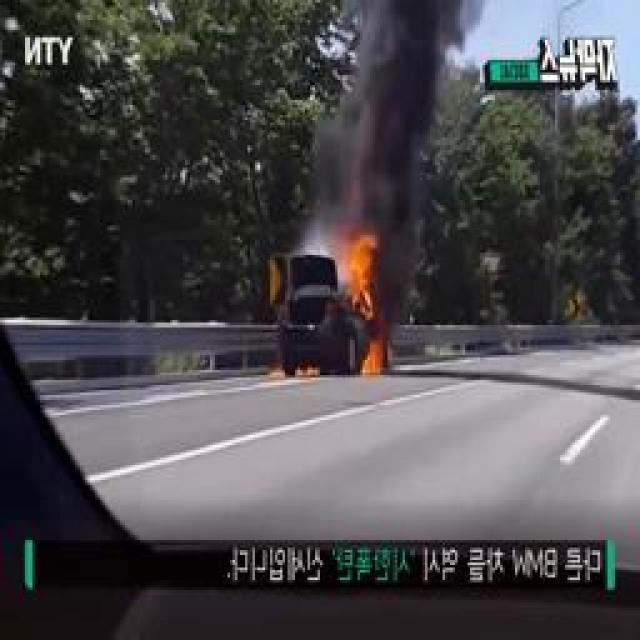Fire: (343, 255, 385, 378)
